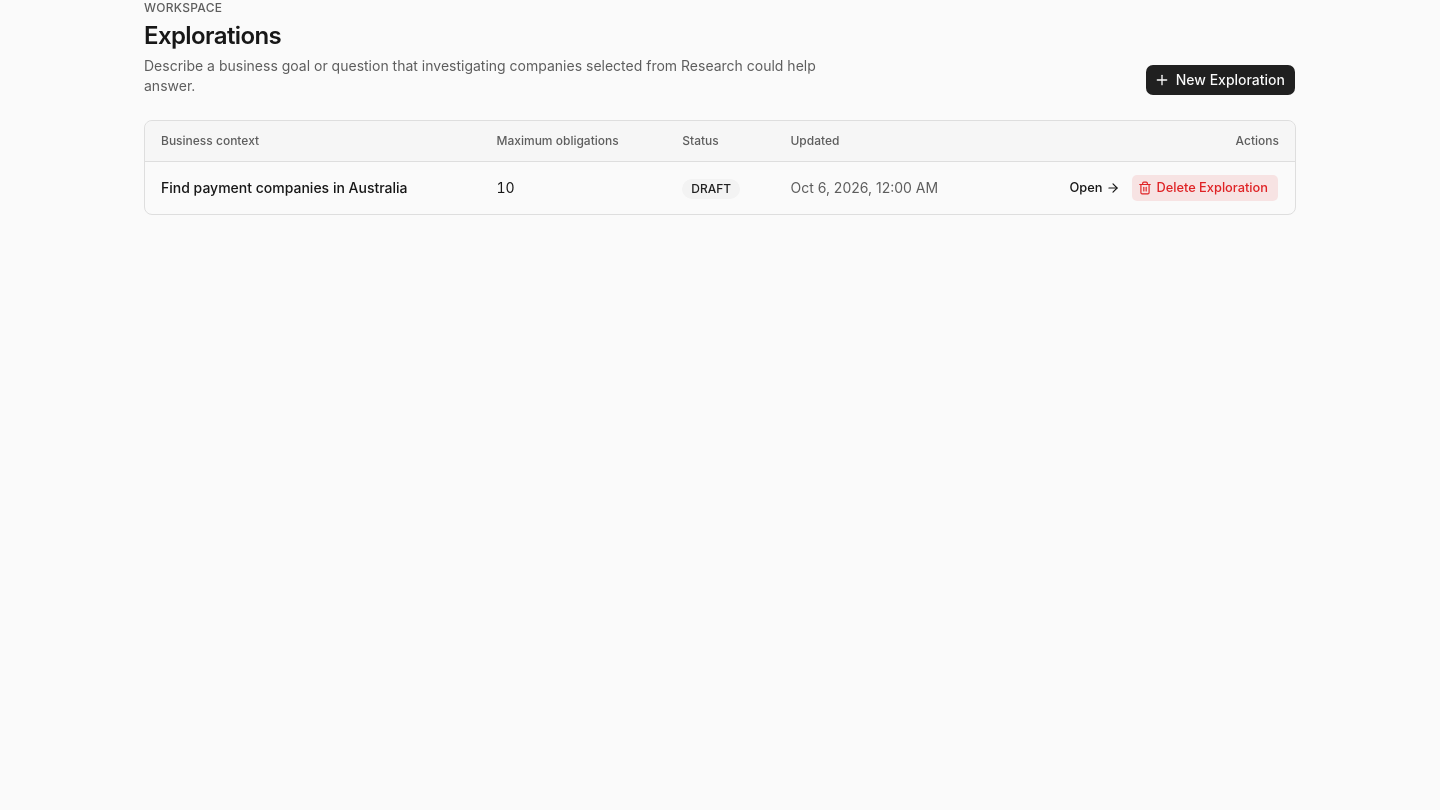
Test case: ExplorationsPage › keeps the row and shows the lifecycle message when deletion returns 409
Click the button "Delete Exploration".
click(1205, 188)  # box [1132,174,1279,202]
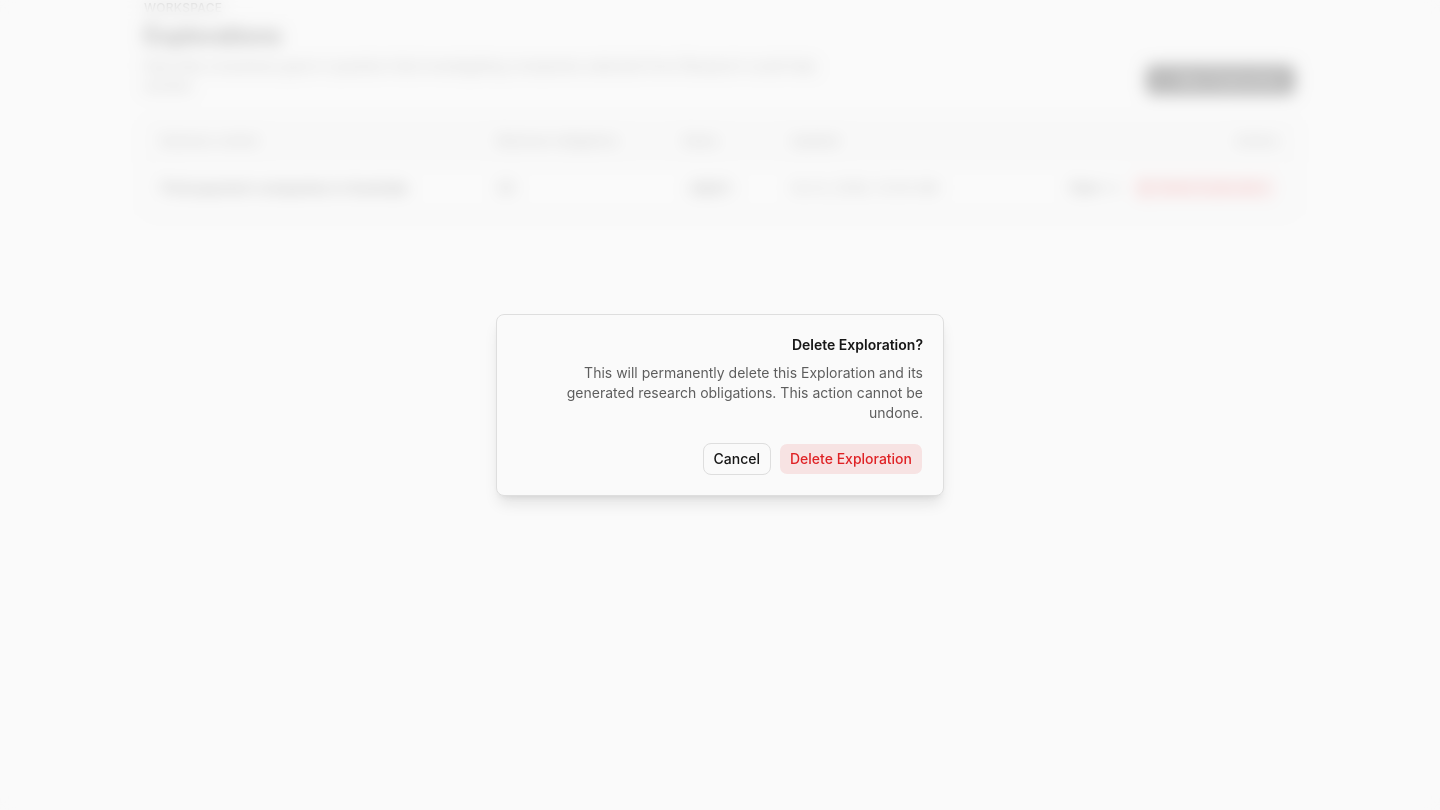
Click the button "Delete Exploration" below "Delete Exploration?".
click(851, 459)  # box [779,443,923,475]
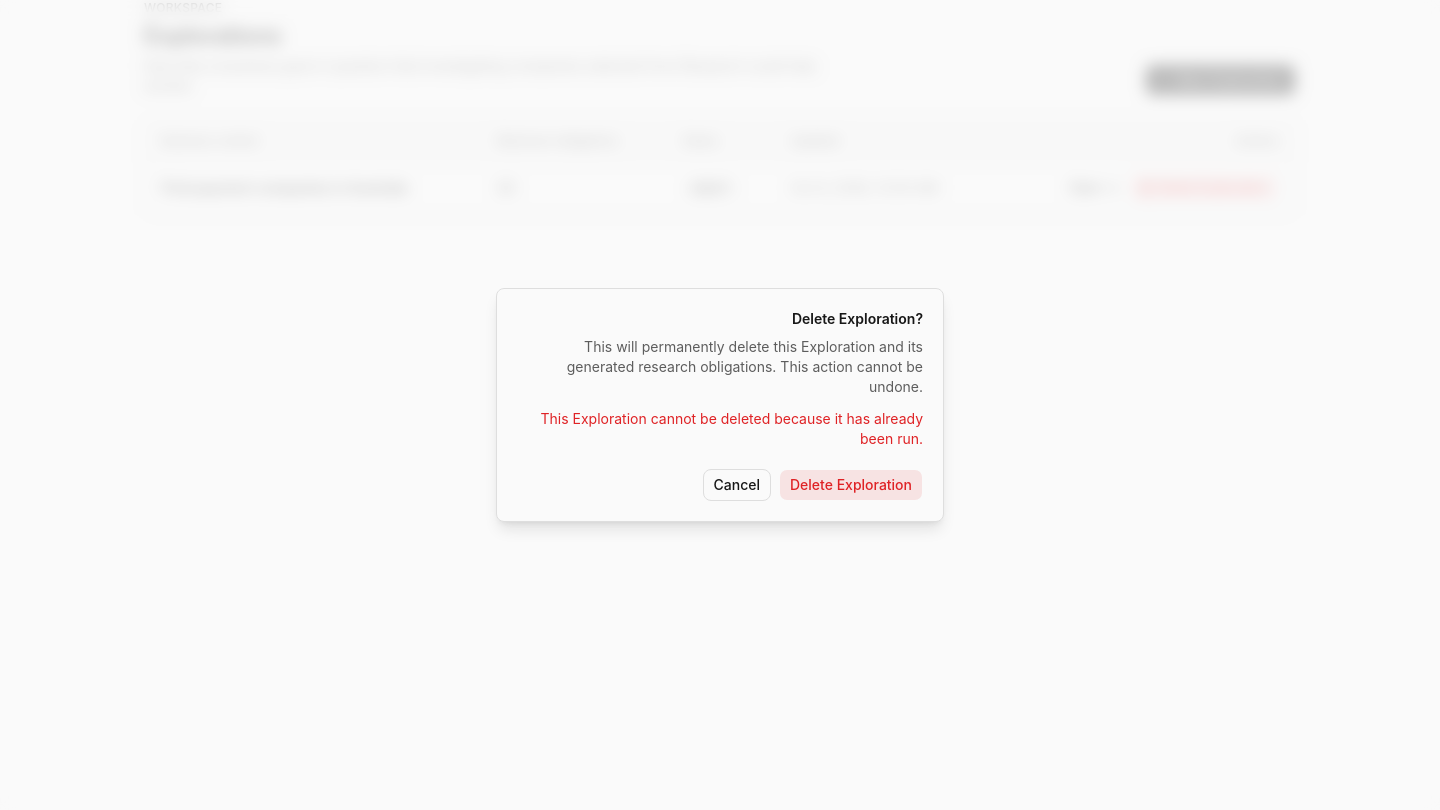
Expected: the list item "This Exploration cannot be deleted because it has already been run." is shown, [517,409,923,449]
